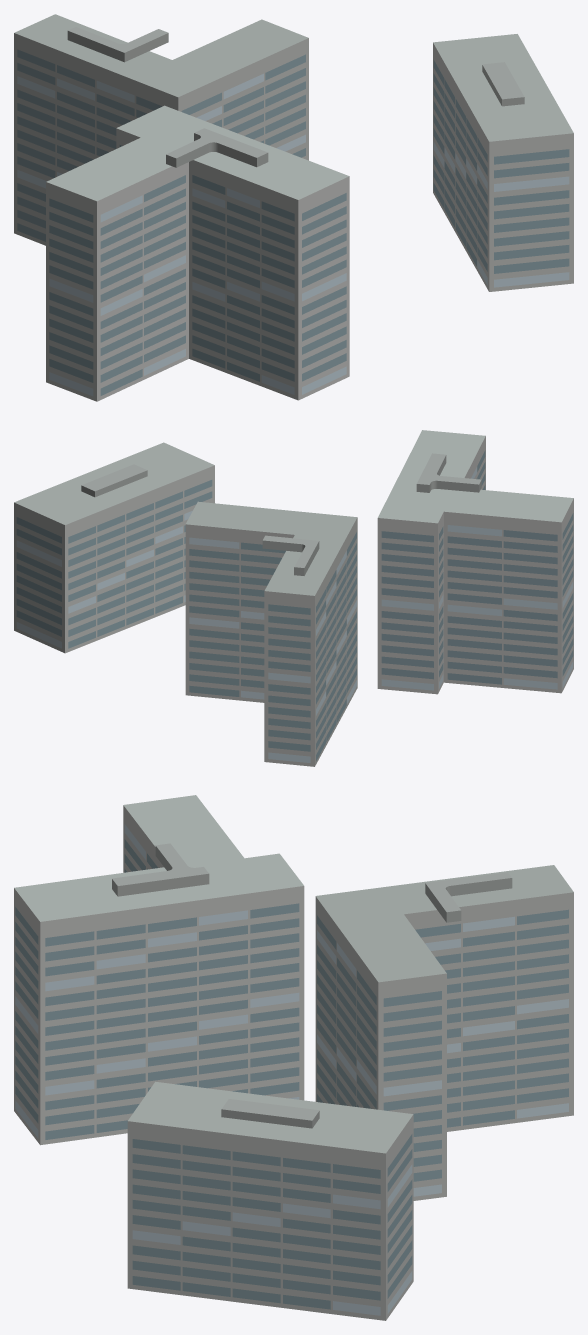
Rendered from apt-a13484201.glb.
3 renders of one model, top to bottom at view 1: azimuth 30°, elevation 25°; view 2: azimuth 150°, elevation 25°; view 3: azimuth 270°, elevation 25°, orthographic. The views are drawn at different scales.
Visible parts, largest first — view 1: apt-a13484201; view 2: apt-a13484201; view 3: apt-a13484201.
Boxes of the visible parts, x1,y1,x2,y2 form: apt-a13484201: [14, 14, 573, 401]; apt-a13484201: [14, 430, 573, 766]; apt-a13484201: [14, 795, 573, 1320].
Size of the model in its own units: 111 by 40 by 86.84.
